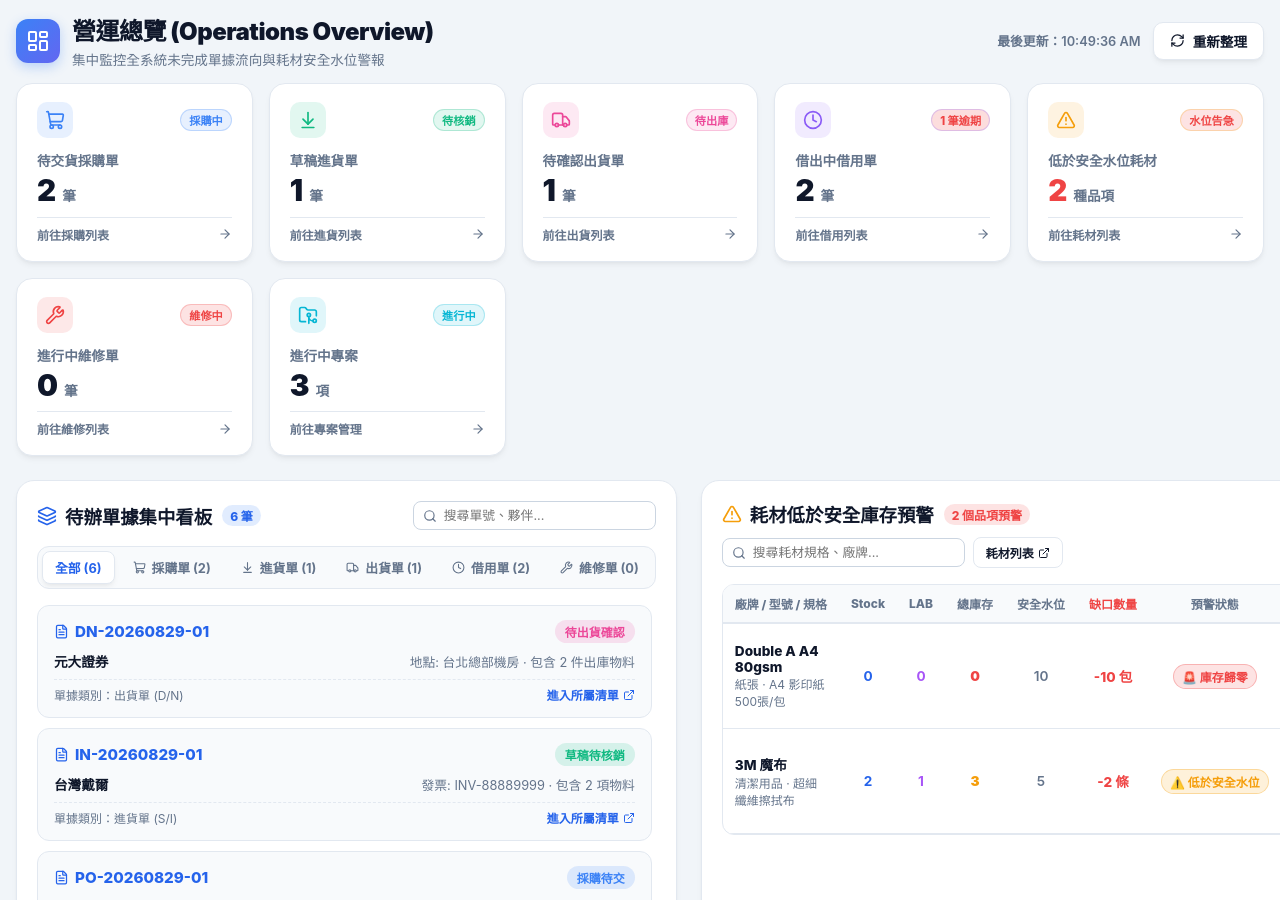
營運總覽 (Overview) 頁面功能測試 › 應正確列出未完成單據並支援頁籤切換與搜尋
The width and height of the screenshot is (1280, 900).
Expected: the text "PO-20260829-01" is shown, [54, 868, 208, 887]
Expected: the text "IN-20260829-01" is shown, [54, 745, 202, 764]
Note: 切換至「採購單」頁籤
Click the button "採購單 (2)" at (172, 568), box [121, 551, 223, 584]
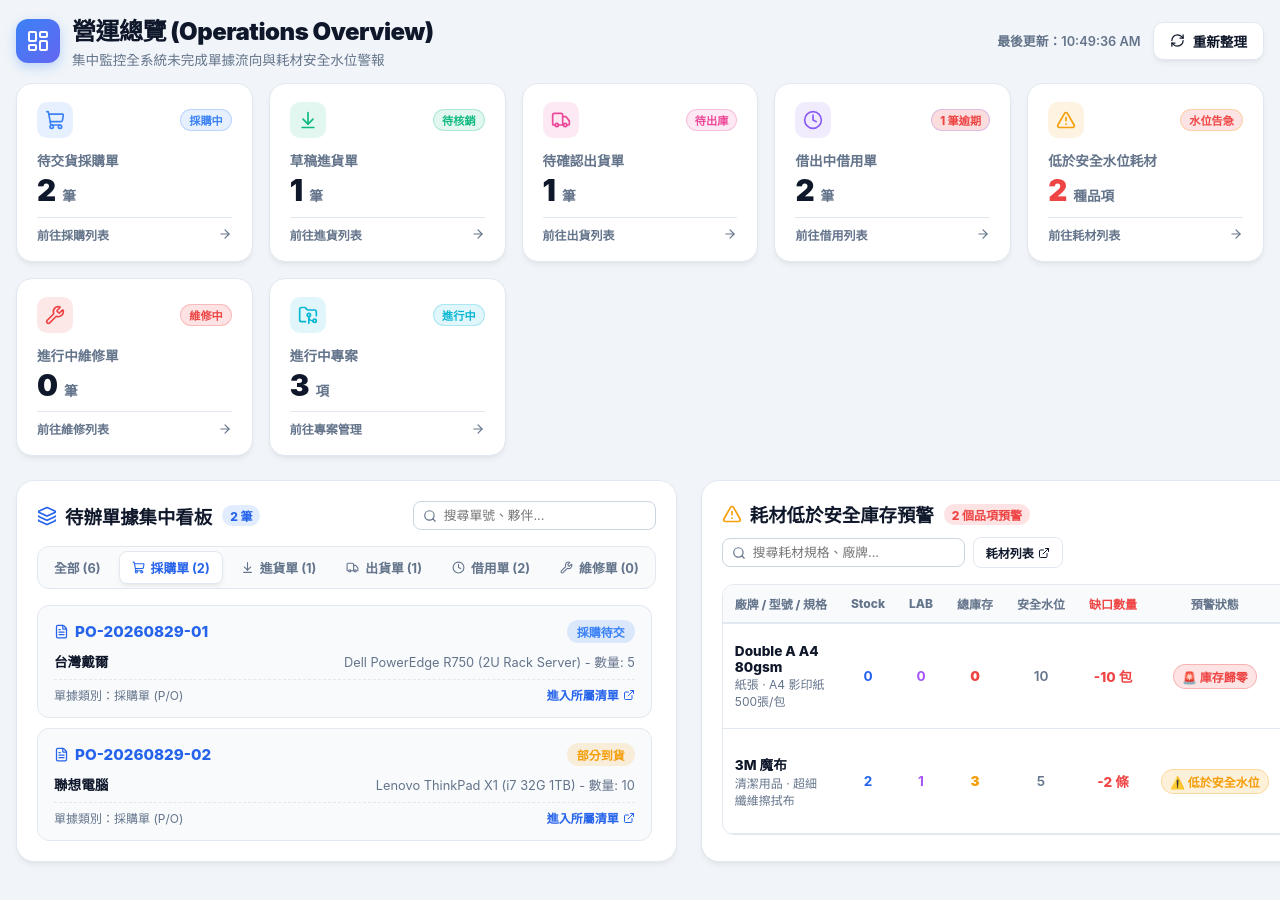
Expected: the text "PO-20260829-01" is shown, [54, 622, 208, 641]
Now the text "IN-20260829-01" is gone
Type "ThinkPad" into the field with placeholder "搜尋單號、夥伴..." at (534, 516), box [413, 501, 656, 530]
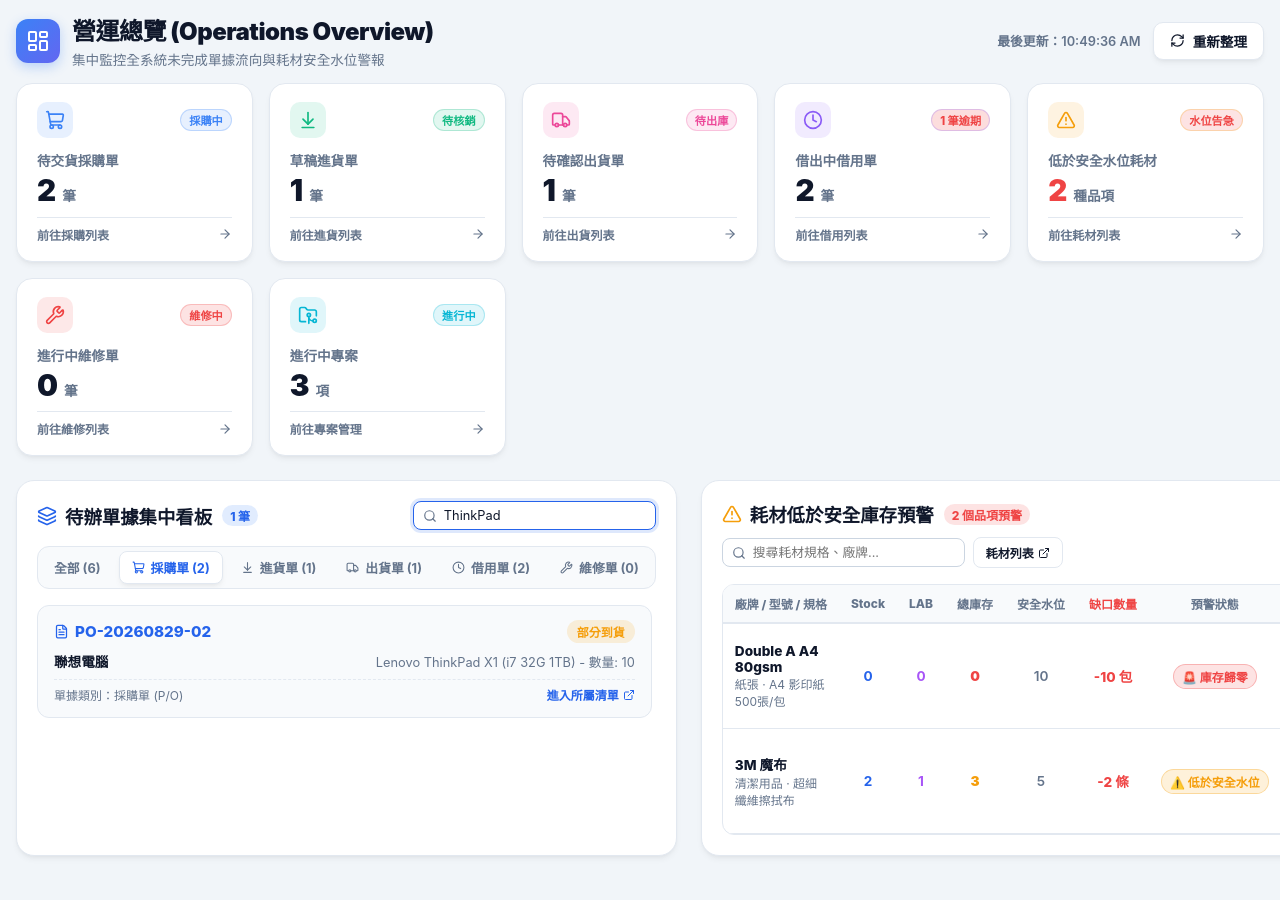
Expected: the text "PO-20260829-02" is shown, [54, 622, 211, 641]
Now the text "PO-20260829-01" is gone
